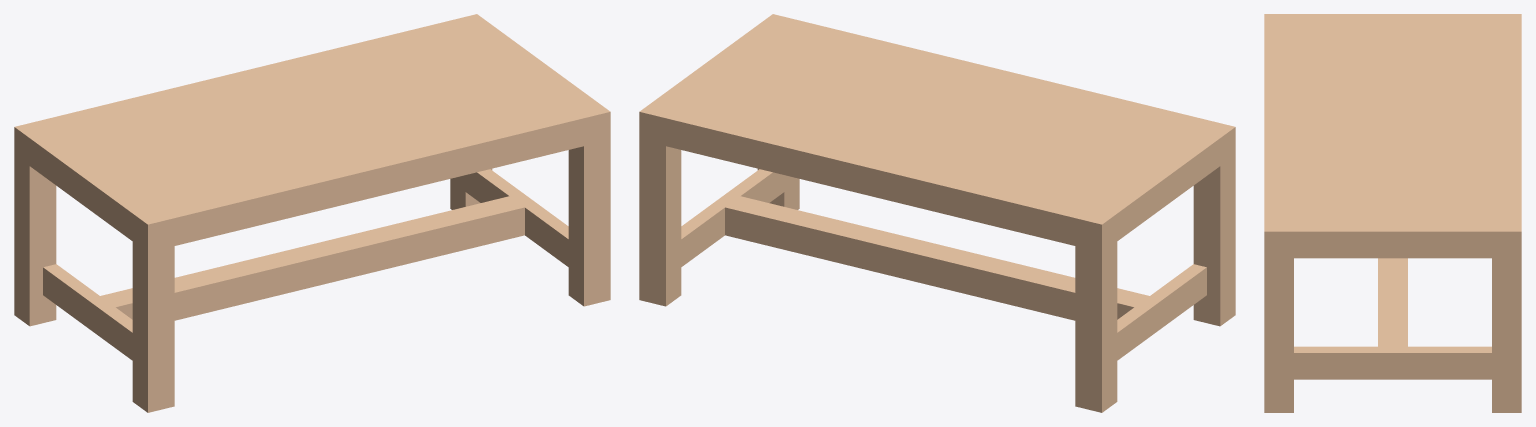
The model's file is table-col.glb.
3 renders of one model, left to right at view 1: azimuth 30°, elevation 25°; view 2: azimuth 150°, elevation 25°; view 3: azimuth 270°, elevation 25°, orthographic. The views are drawn at different scales.
Parts seen in each view (by area): view 1: table-col; view 2: table-col; view 3: table-col.
Part boxes in pixels (bbox=[...]): table-col: bbox=[14, 14, 610, 412]; table-col: bbox=[639, 14, 1235, 412]; table-col: bbox=[1264, 14, 1521, 412].
Size of the model in its own units: 0.9 by 0.35 by 0.45.
